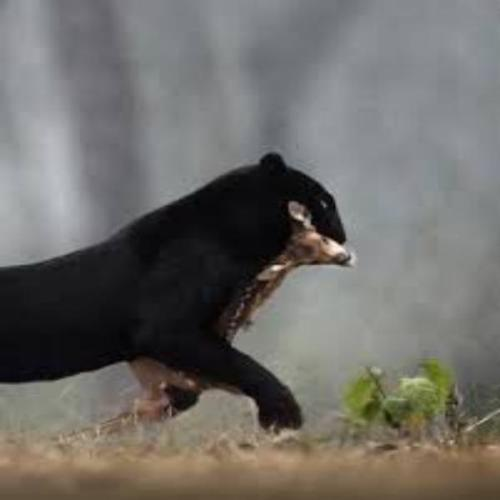panther-endangered: (0, 152, 348, 431)
